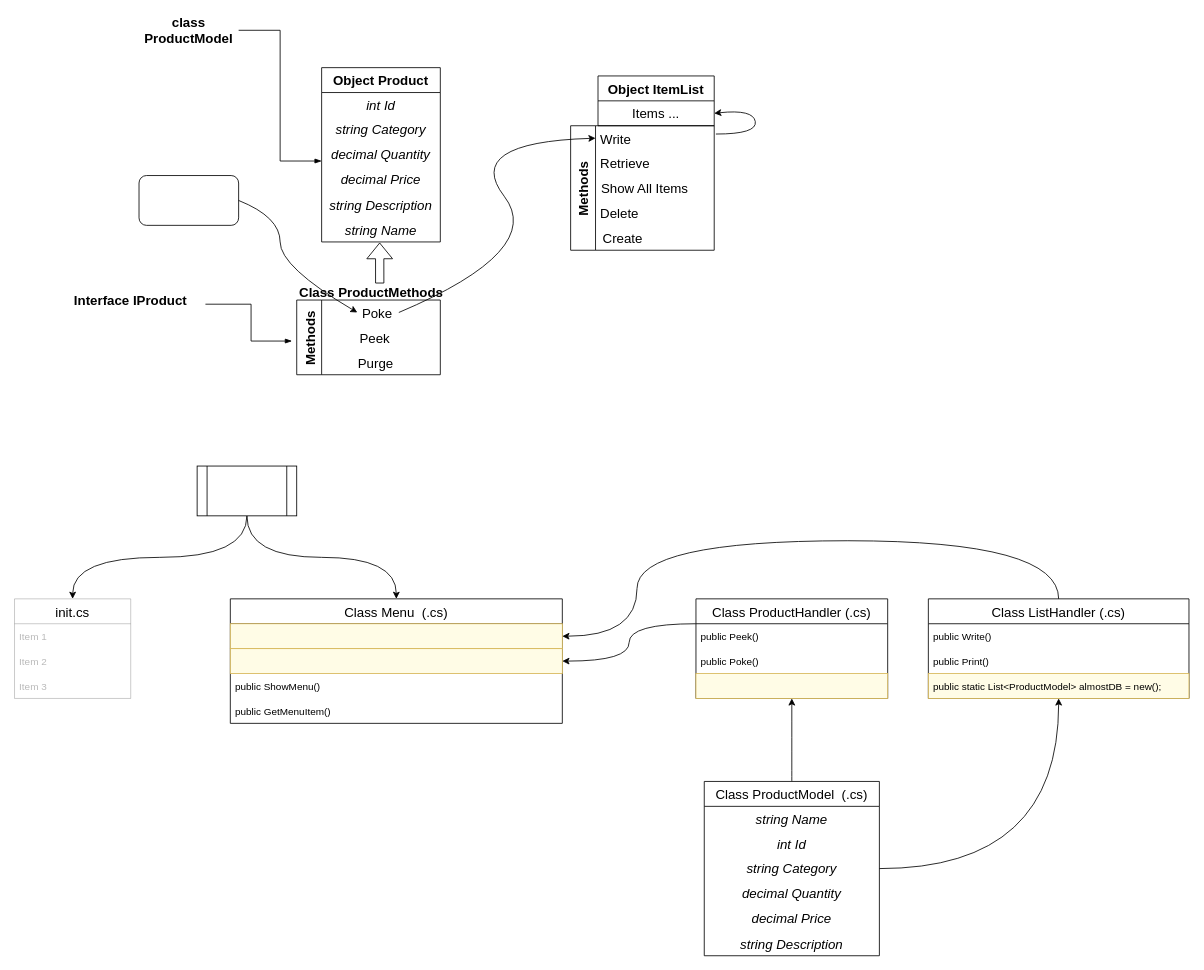
Some shapes in this 1204 by 970 pixel diagram are drawn without their labels. The centre of each missing label's shape, as x and y in pixels:
Console: the point at 188,200
program.cs: the point at 246,490
public ListHandler listHandler = new();: the point at 395,636
public ProductHandler productHandler = new();: the point at 395,661
public ProductModel Item = new();: the point at 791,685
